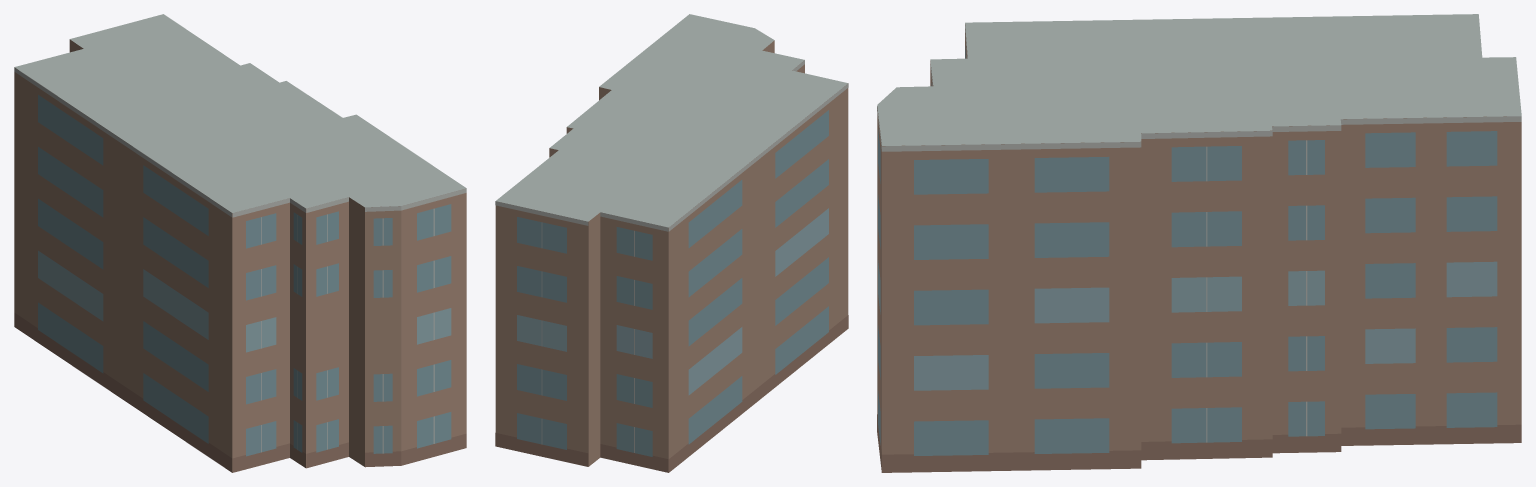
Rendered from survey-upis-32937662.glb.
3 views of the same model, side by side, from view 1: azimuth 30°, elevation 25°; view 2: azimuth 150°, elevation 25°; view 3: azimuth 270°, elevation 25° (orthographic). The views are drawn at different scales.
Parts seen in each view (by area): view 1: survey-upis-32937662.tmp; view 2: survey-upis-32937662.tmp; view 3: survey-upis-32937662.tmp.
Boxes of the visible parts, x1,y1,x2,y2 form: survey-upis-32937662.tmp: (14,14,466,472); survey-upis-32937662.tmp: (495,14,848,472); survey-upis-32937662.tmp: (877,14,1521,472).
Bounding box in the file's own units: 12.15 × 14 × 25.04.
